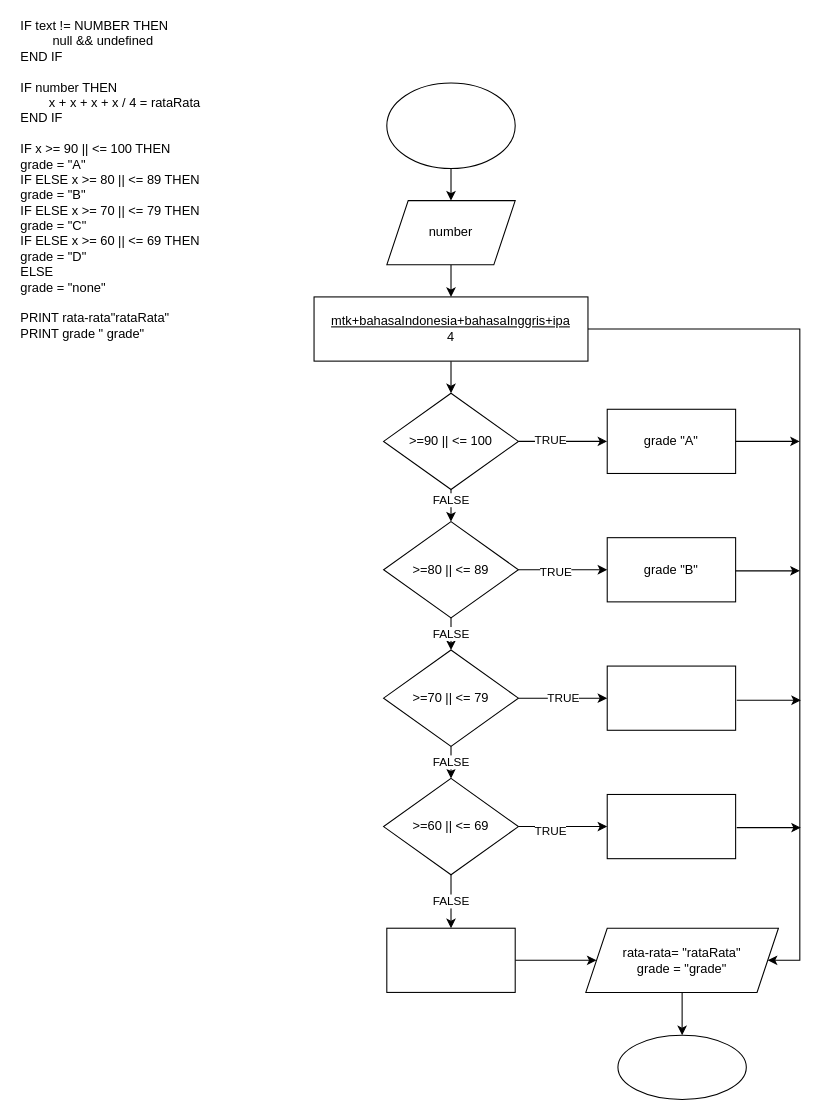
Image size: 828x1118. Some labels were removed from this diagram. Each missing label, with the centre of its shape:
end: [681,1066]
grade "C": [671,697]
grade "D": [671,826]
grade "None": [450,959]
Start: [450,125]
